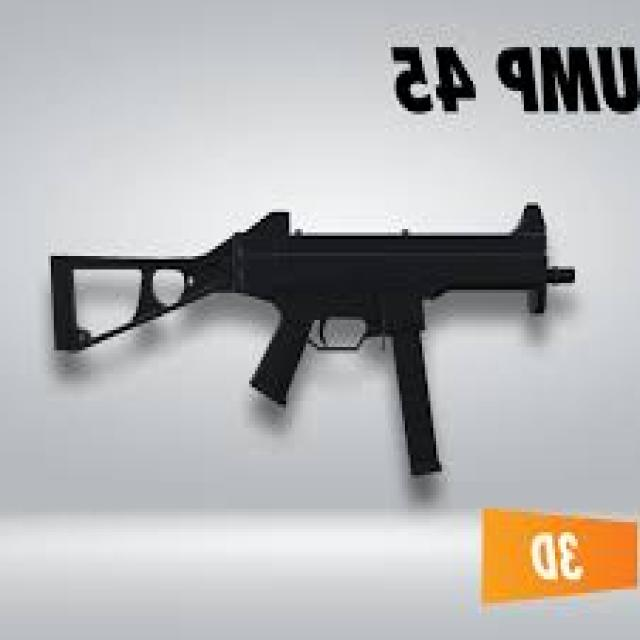Gun: (51, 188, 572, 490)
